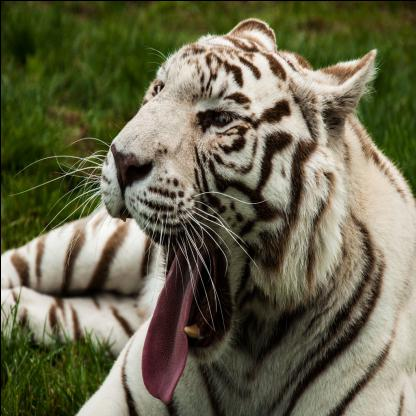tiger: (88, 6, 390, 408)
